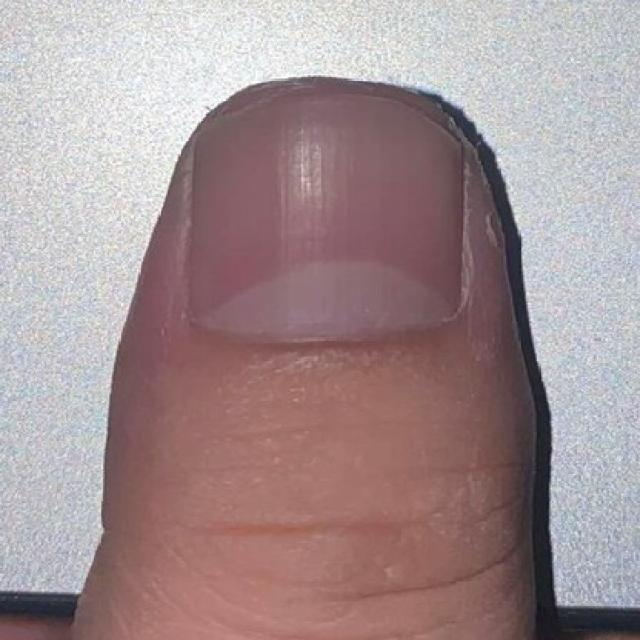Nail: (189, 80, 461, 341)
